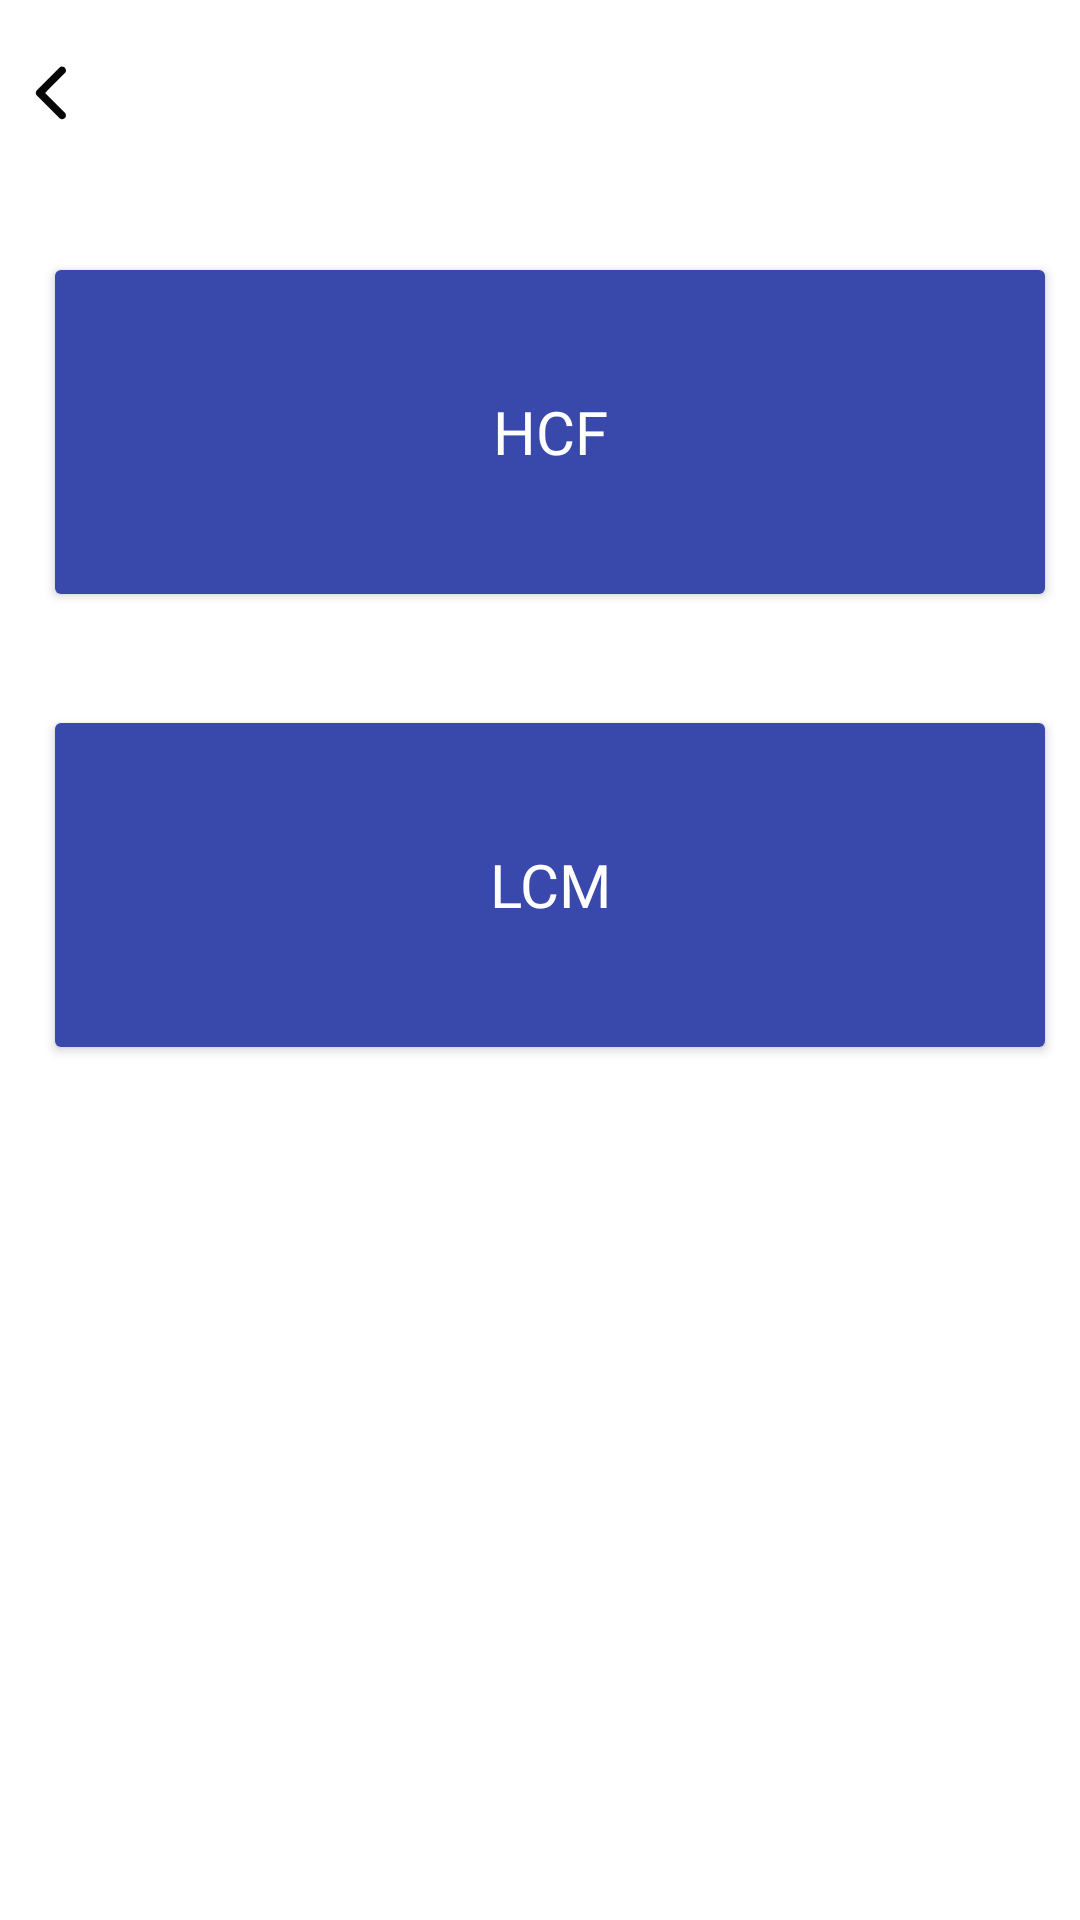

Icon click points for this 1080*1920 phone screenshot, format [x,y]:
back: [50,93]
